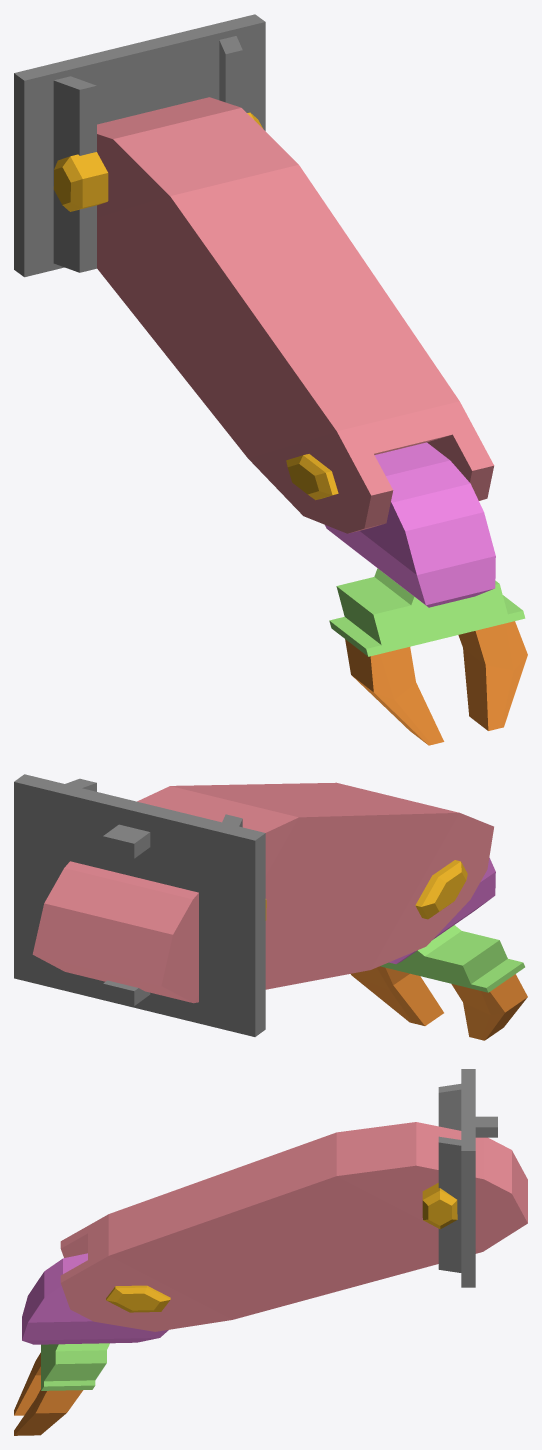
The model's file is MecArm.fbx.
3 renders of one model, top to bottom at view 1: azimuth 30°, elevation 25°; view 2: azimuth 150°, elevation 25°; view 3: azimuth 270°, elevation 25°, orthographic. The views are drawn at different scales.
Visible parts, largest first — view 1: BrasMec, BrasMec_Pince, BrasMec_Base; view 2: BrasMec, BrasMec_Base, BrasMec_Pince; view 3: BrasMec, BrasMec_Pince, BrasMec_Base.
Part boxes in pixels (x1,y1,x2,y2): BrasMec: (97, 97, 494, 533); BrasMec_Pince: (325, 442, 527, 745); BrasMec_Base: (14, 14, 265, 277); BrasMec: (32, 782, 493, 1003); BrasMec_Base: (14, 774, 266, 1036); BrasMec_Pince: (351, 857, 527, 1040); BrasMec: (60, 1122, 527, 1331); BrasMec_Pince: (14, 1253, 168, 1435); BrasMec_Base: (422, 1069, 497, 1287).
Bounding box in the file's own units: 114 × 203 × 302.
